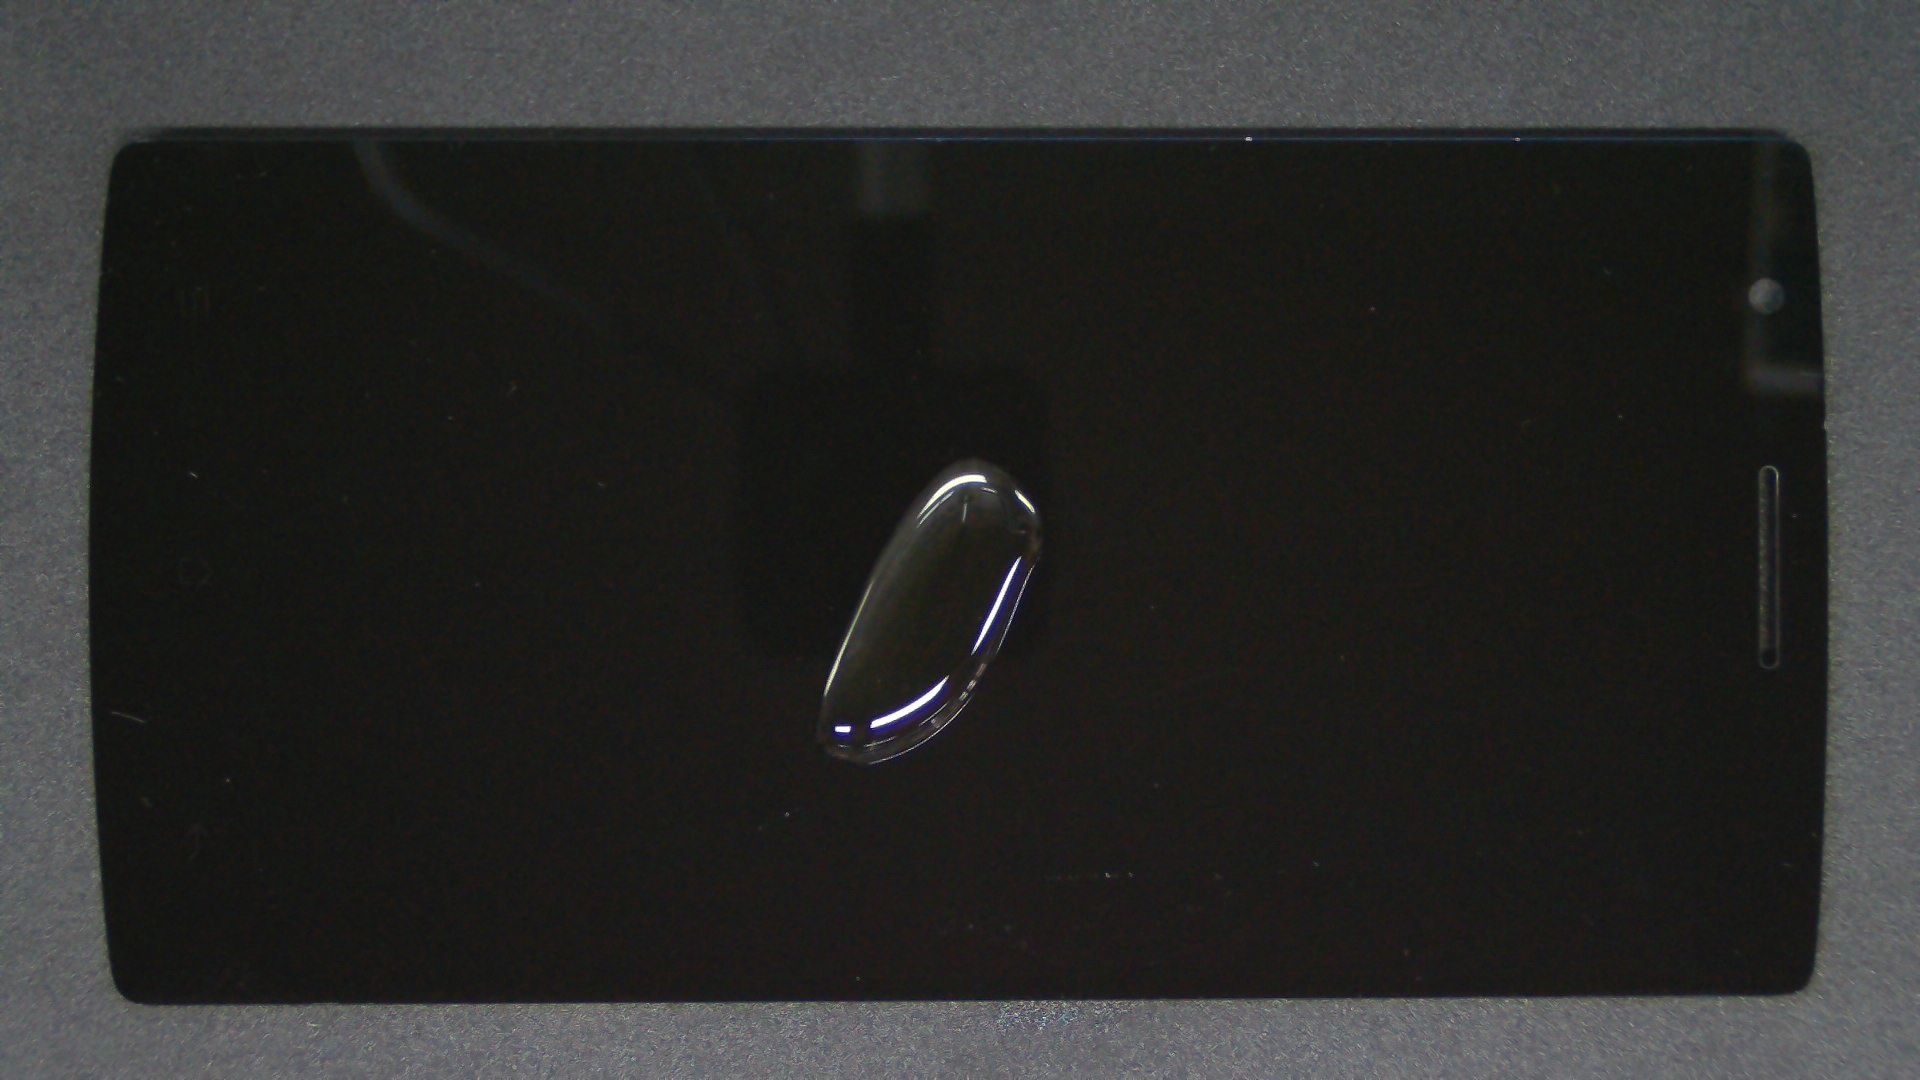oil: (488, 228, 1462, 686)
